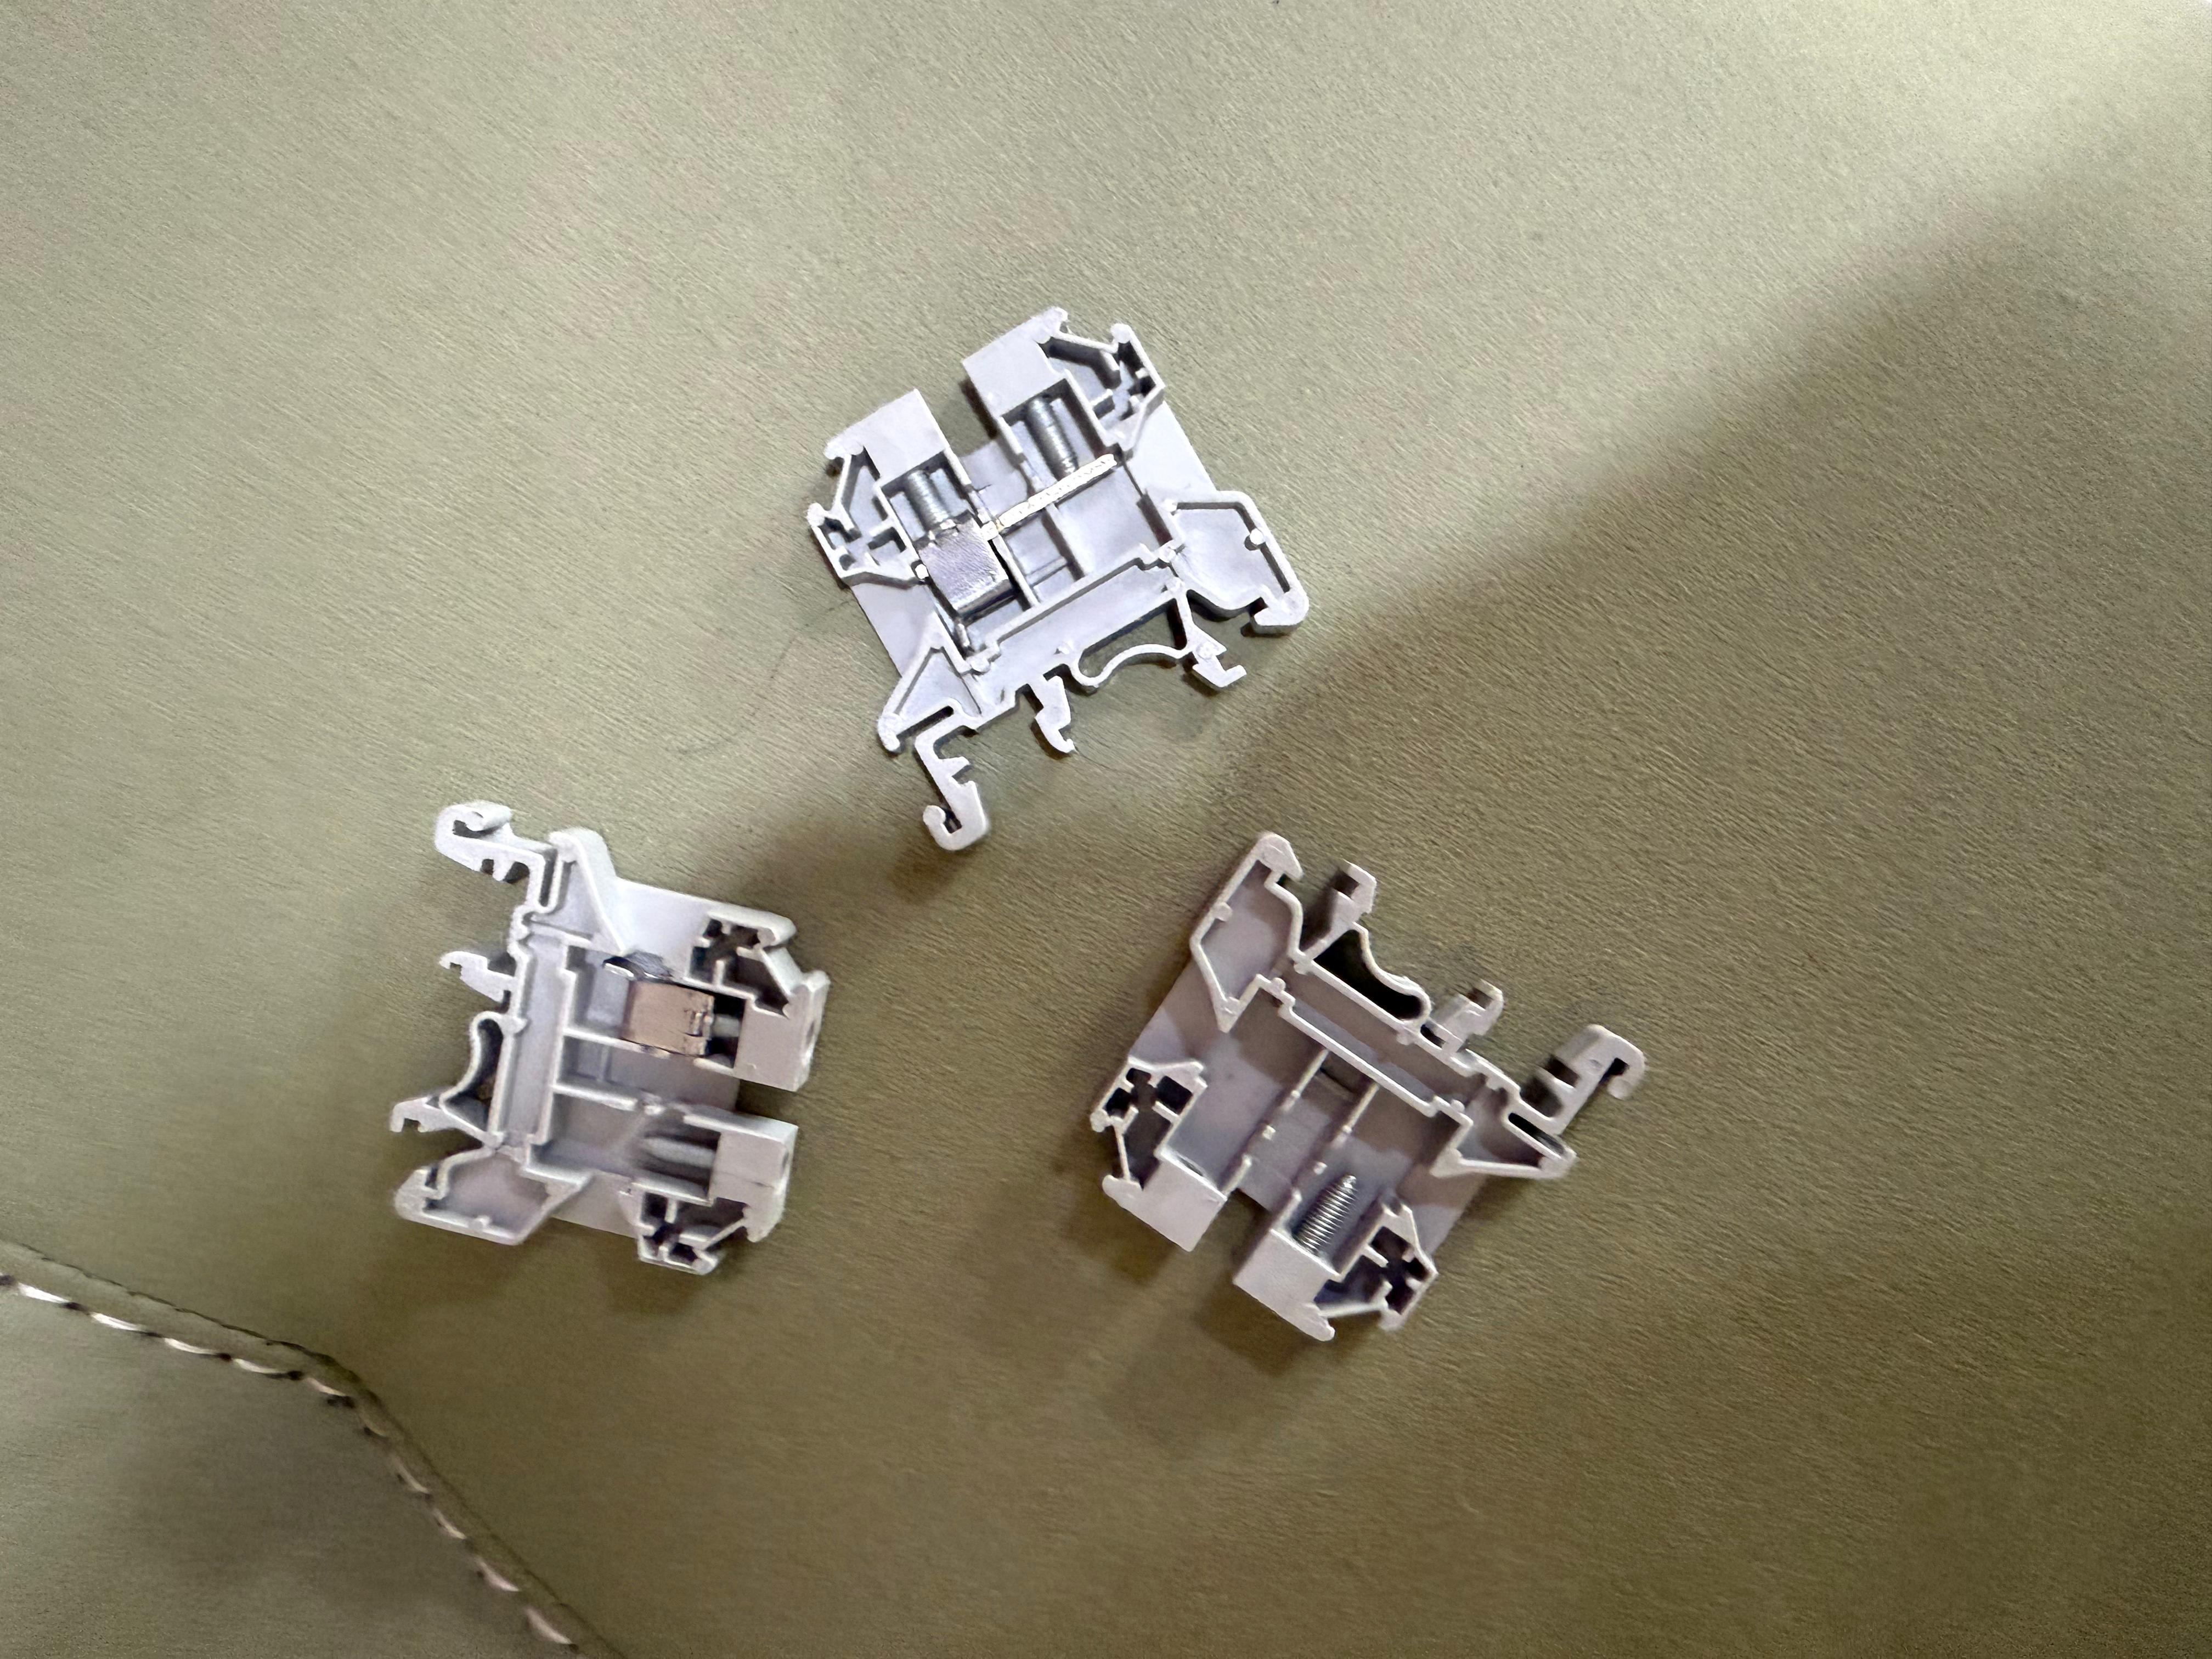Reject: (1075, 823, 1644, 1361), (794, 293, 1308, 849), (387, 796, 806, 1270)
